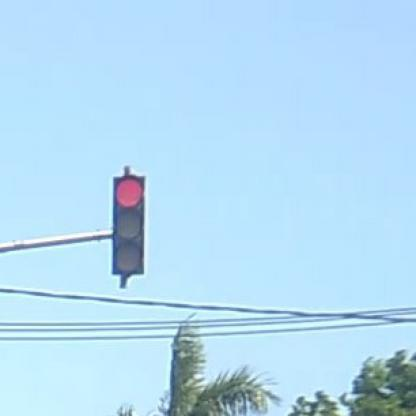red: (112, 176, 146, 275)
